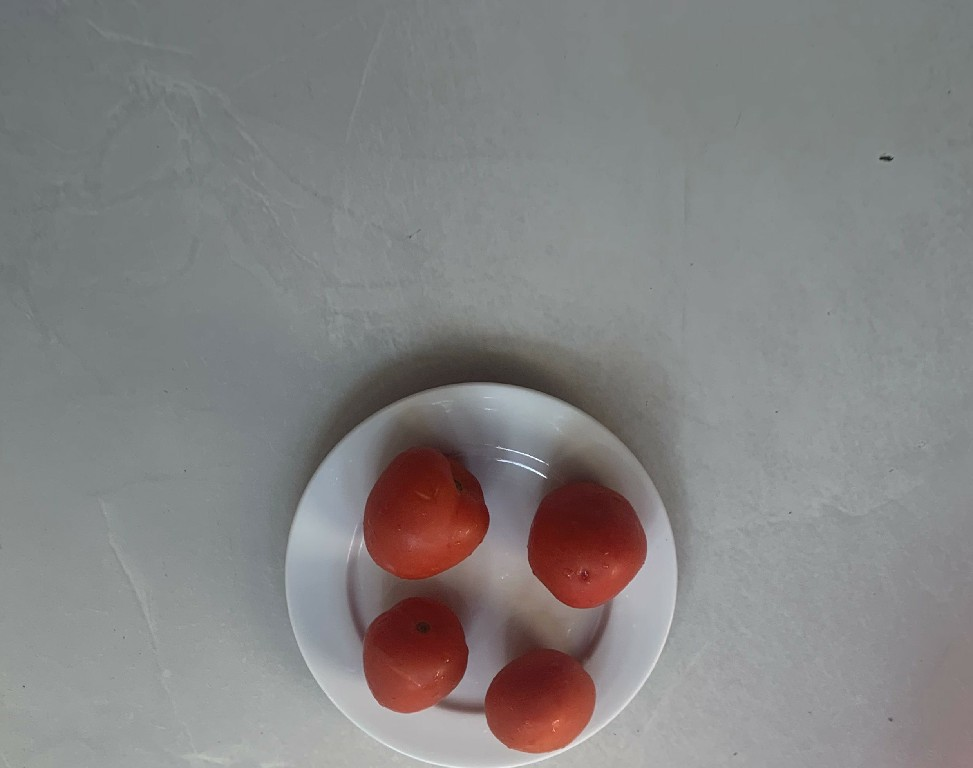OK: (362, 448, 490, 580), (526, 477, 649, 613), (353, 595, 468, 713), (482, 643, 597, 757)
